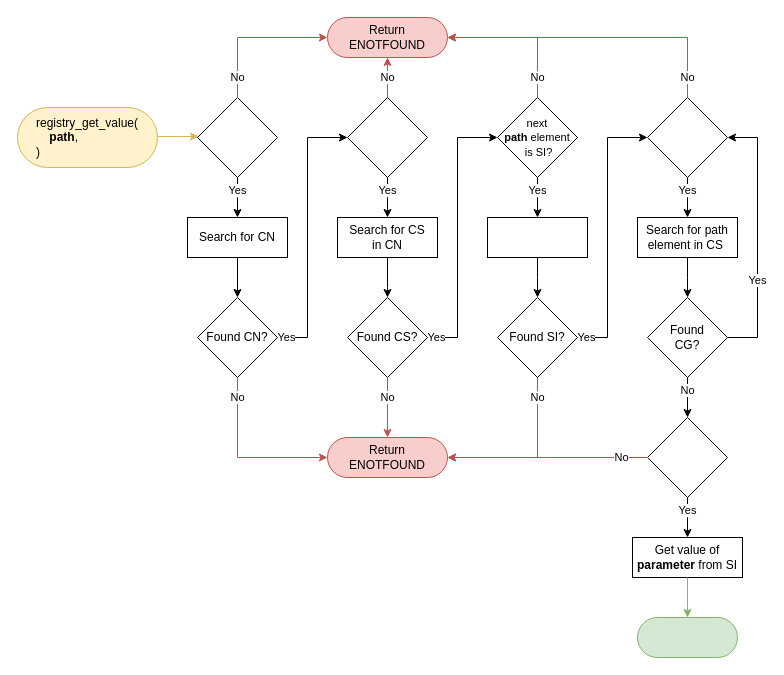
Image size: 784x675. Some labels were removed from this diagram. The box of each missing label's shape, as (x1, y1, x2, y2) in pixels:
first path element is CN?: (196, 96, 278, 178)
Found parameter?: (646, 416, 728, 498)
has next path element?: (646, 96, 728, 178)
next path element is CS?: (346, 96, 428, 178)
Return value of parameter: (636, 616, 738, 658)
Search for SI in CS: (486, 216, 588, 258)
